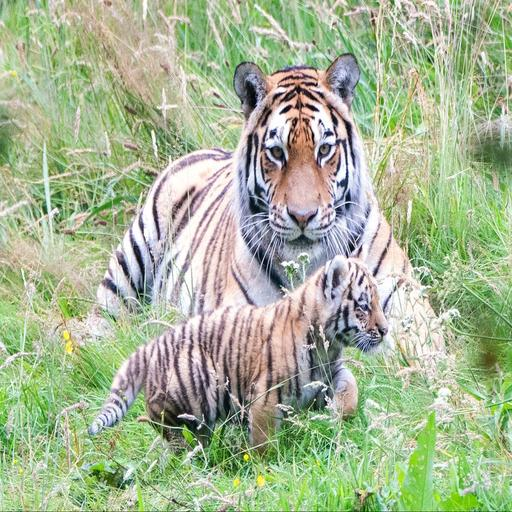Tiger: (74, 37, 456, 413), (85, 254, 386, 462)
